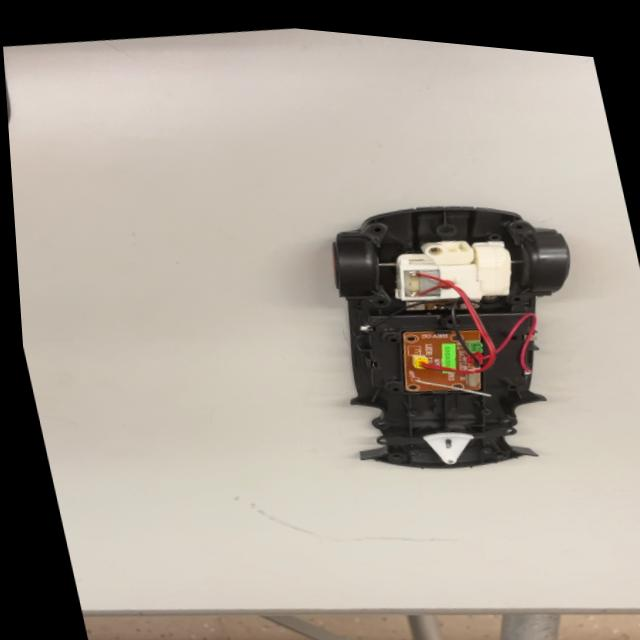Chassis: (299, 176, 620, 500)
